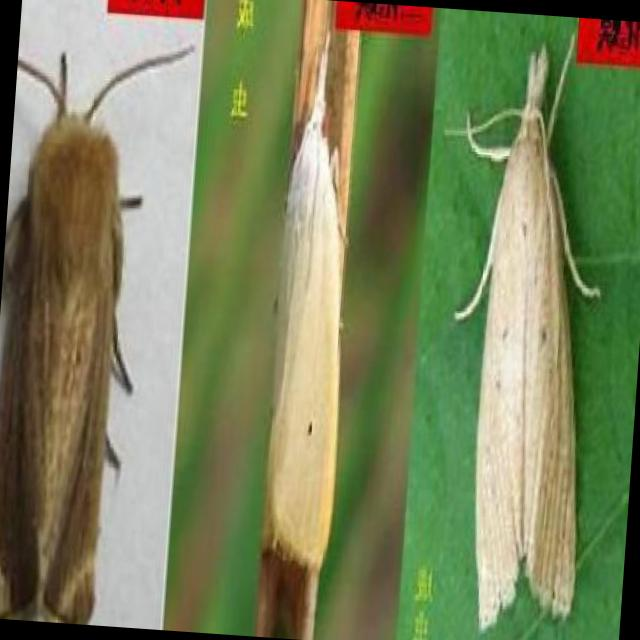stem-borer: (0, 38, 174, 627), (444, 34, 603, 633), (254, 31, 367, 572)
